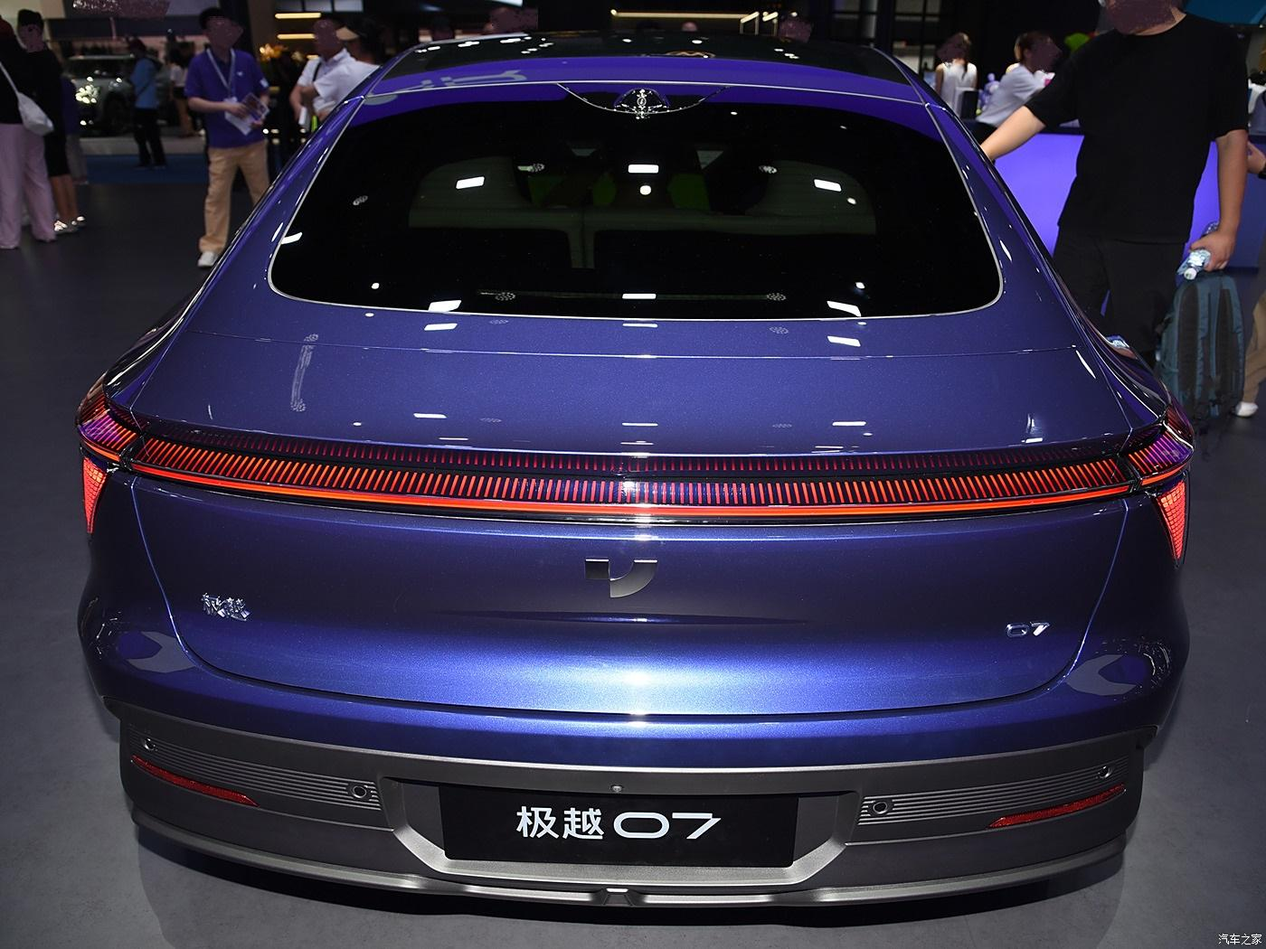JIYUE: (582, 557, 659, 598)
